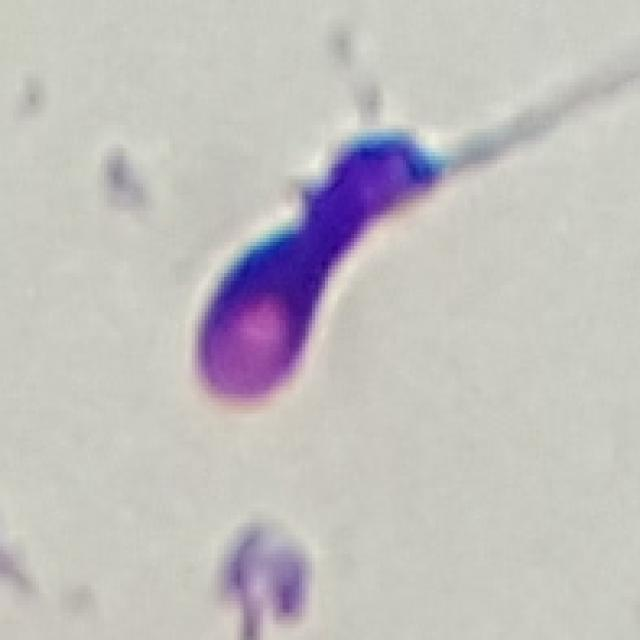abnormal sperm: (145, 25, 637, 431)
